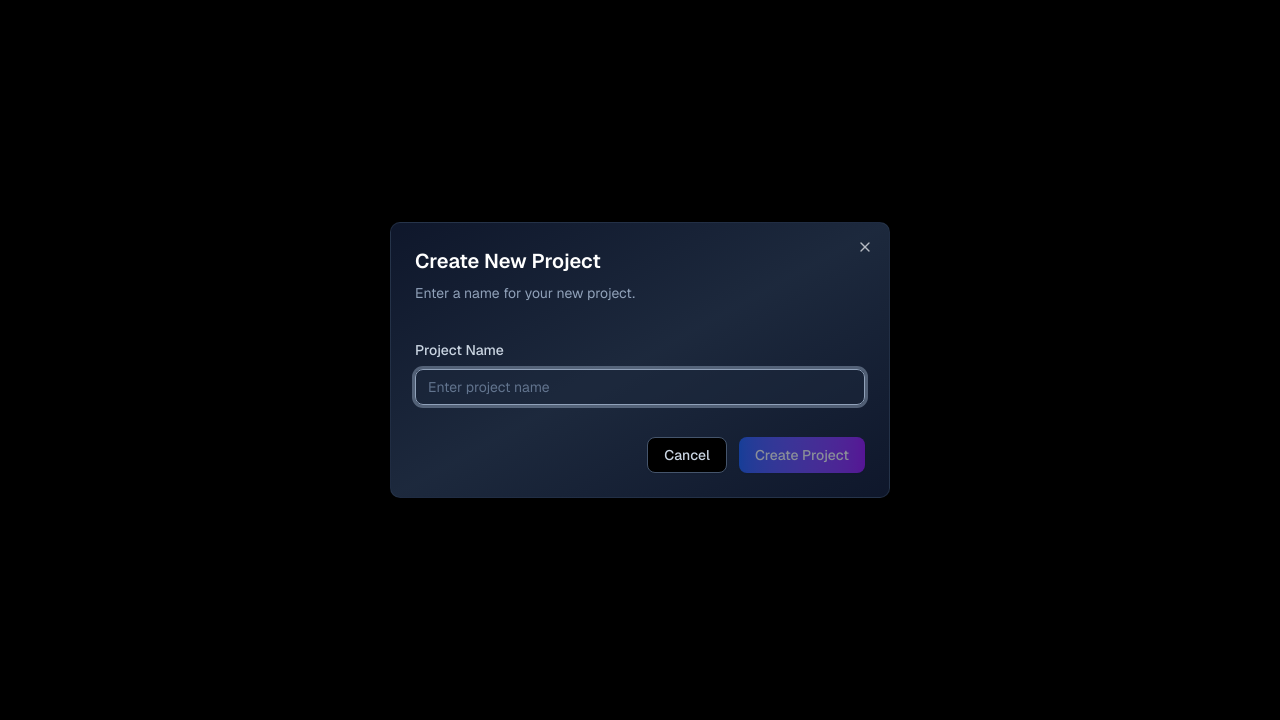
Test: CreateProjectDialog › rendering › enables Create button when input has text
The image size is (1280, 720).
In the field with placeholder "Enter project name": (640, 387) [415, 369, 865, 405], type "Test Project"
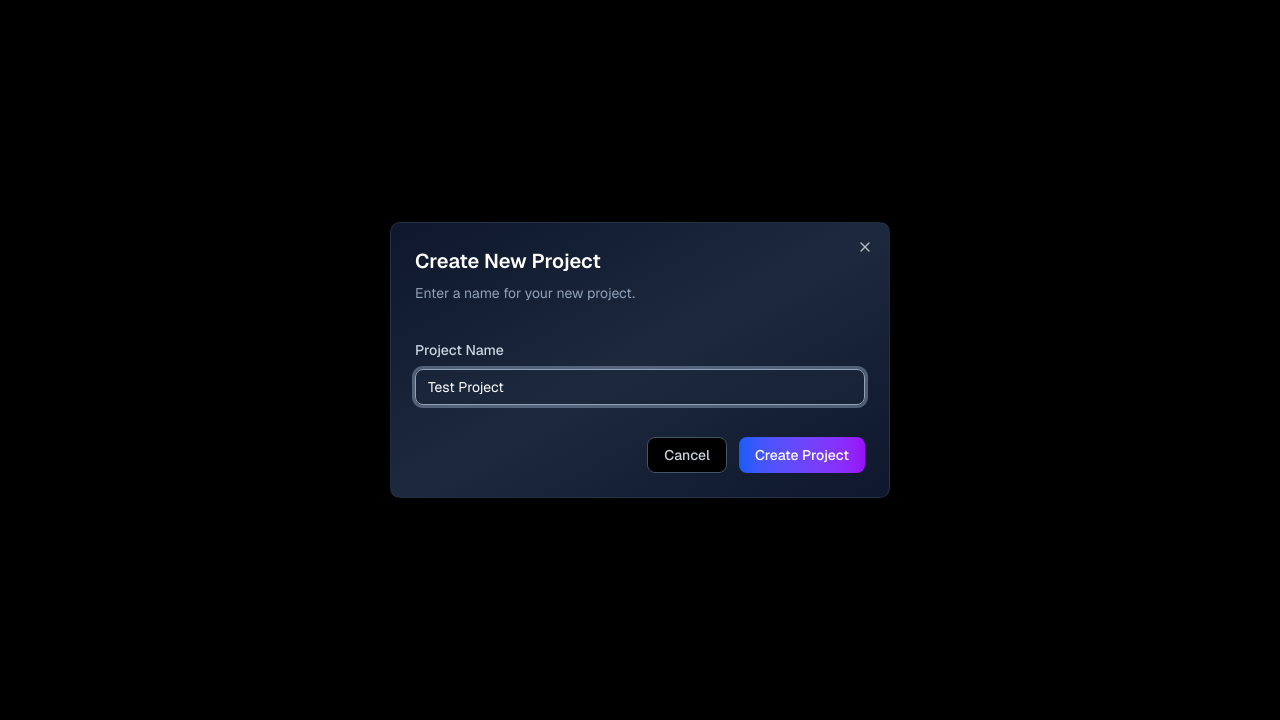
Expected: the button "Create Project" is enabled, [739, 437, 865, 473]
